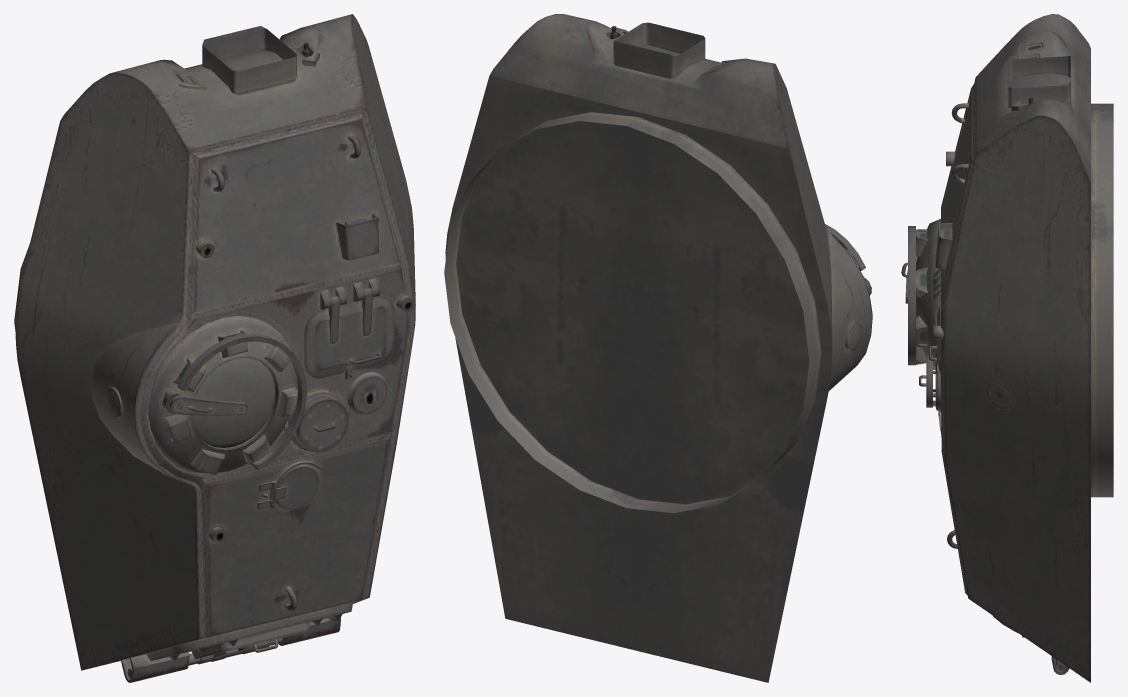
The model's file is Turret_01.glb.
3 renders of one model, left to right at view 1: azimuth 30°, elevation 25°; view 2: azimuth 150°, elevation 25°; view 3: azimuth 270°, elevation 25°, orthographic. The views are drawn at different scales.
Parts seen in each view (by area): view 1: set_0_group_0; view 2: set_0_group_0; view 3: set_0_group_0.
Part boxes in pixels (bbox=[...]): set_0_group_0: bbox=[14, 14, 415, 682]; set_0_group_0: bbox=[444, 14, 872, 682]; set_0_group_0: bbox=[901, 14, 1113, 682].
Size of the model in its own units: 2.51 by 3.72 by 1.27.
1 material, 1 textured.
